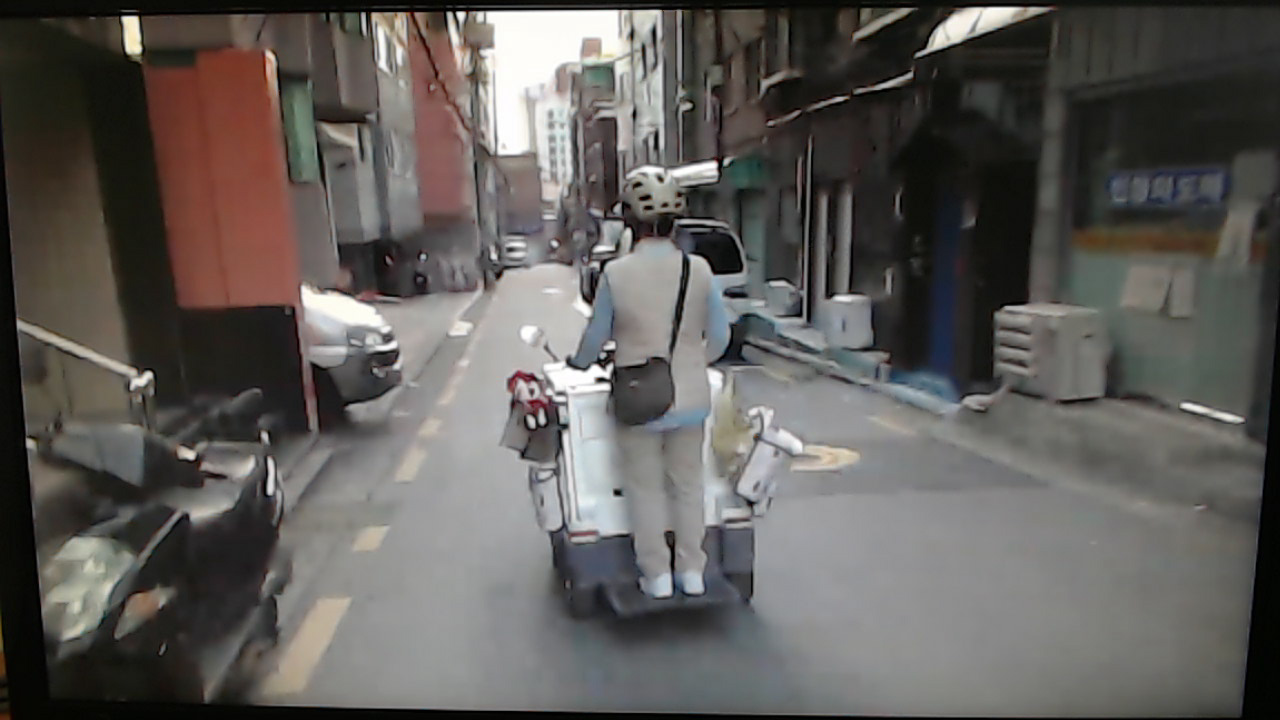Yakurut: (564, 160, 751, 611)
